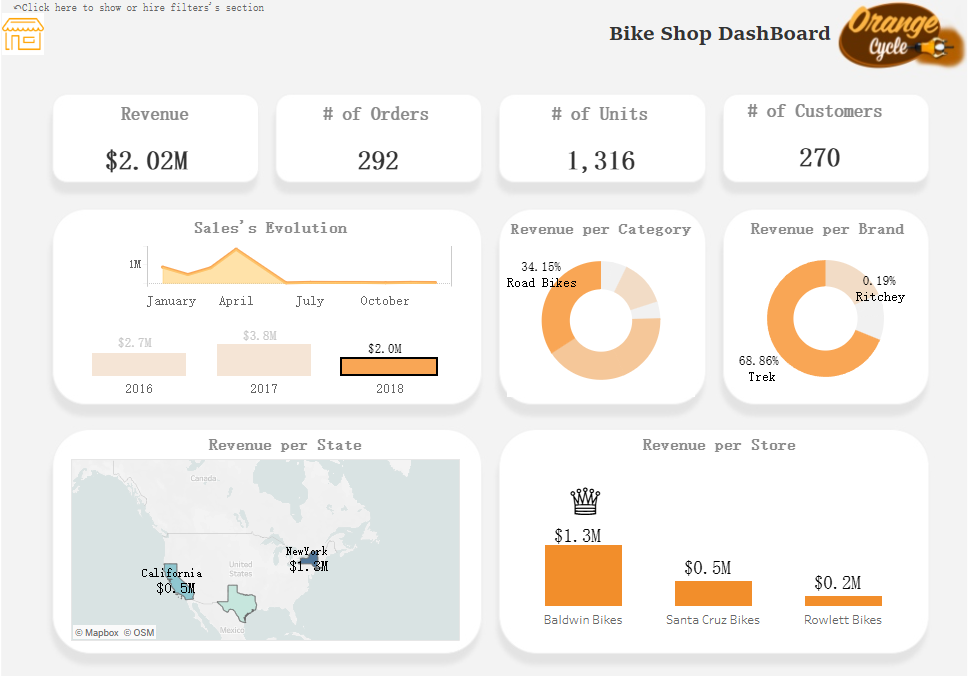

Layout of this report page (visuals, bound fields, positions):
{"tool":"tableau","page":{"name":"Dashboard 1","canvas":[1000,700],"ordinal":0},"visuals":[{"type":"image","param":"Image/canvas-gris.png","box":[8,8,984,684]},{"type":"text","box":[29,13,264,11]},{"type":"dashboard-object","box":[18,23,42,46]},{"type":"text","box":[600,25,247,42]},{"type":"filter","title":"# Customers","param":"[federated.1cahsle01mf6ul16q88dd1yeb68a].[none:Calculation_579838487095468032:ok","box":[65,29,134,37]},{"type":"filter","title":"Revenue per Category","param":"[federated.1cahsle01mf6ul16q88dd1yeb68a].[none:category_name:nk]","box":[199,29,204,37]},{"type":"filter","title":"Sale Per State","param":"[federated.1cahsle01mf6ul16q88dd1yeb68a].[none:Calculation_579838487110369286:nk","box":[403,29,168,37]},{"type":"worksheet","title":"Revenue","mark":"Automatic","box":[99,112,155,80]},{"type":"worksheet","title":"# Orders","mark":"Automatic","box":[327,112,149,80]},{"type":"worksheet","title":"# Product","mark":"Automatic","box":[547,112,155,80]},{"type":"worksheet","title":"# Customers","mark":"Automatic","box":[758,113,170,73]},{"type":"text","box":[210,224,167,30]},{"type":"text","box":[748,225,190,30]},{"type":"text","box":[526,226,182,30]},{"type":"worksheet","title":"Revenue per Brands","mark":"Pie","rows":["Calculation_579838487116570645","Calculation_579838487116570645"],"box":[755,252,173,157]},{"type":"worksheet","title":"Sale | Monthly","mark":"Area","rows":["revenue","revenue"],"cols":["order_date"],"box":[88,254,384,1]},{"type":"worksheet","title":"Sale | Yearly","mark":"Bar","rows":["revenue"],"cols":["Calculation_579838487095468032"],"box":[88,255,384,156]},{"type":"worksheet","title":"Revenue per Category","mark":"Pie","rows":["Calculation_579838487116570645","Calculation_579838487116570645"],"box":[523,256,188,153]},{"type":"text","box":[209,442,185,28]},{"type":"text","box":[659,442,180,28]},{"type":"worksheet","title":"Sale Per State","mark":"Automatic","box":[87,471,389,182]},{"type":"worksheet","title":"Sheet 10","mark":"Automatic","rows":["revenue"],"cols":["store_name"],"box":[534,490,390,168]}]}

Visuals, with their boxes in screenshot pixels (x1, y1, x2, y2), scaled from the page's 1000x700 canvas onto the 970x678 screenshot:
image: [8, 8, 962, 670]
text: [28, 13, 284, 23]
dashboard-object: [17, 22, 58, 67]
text: [582, 24, 822, 65]
"# Customers" filter: [63, 28, 193, 64]
"Revenue per Category" filter: [193, 28, 391, 64]
"Sale Per State" filter: [391, 28, 554, 64]
"Revenue" worksheet: [96, 108, 246, 186]
"# Orders" worksheet: [317, 108, 462, 186]
"# Product" worksheet: [531, 108, 681, 186]
"# Customers" worksheet: [735, 109, 900, 180]
text: [204, 217, 366, 246]
text: [726, 218, 910, 247]
text: [510, 219, 687, 248]
"Revenue per Brands" worksheet (Pie marks): [732, 244, 900, 396]
"Sale | Monthly" worksheet (Area marks): [85, 246, 458, 247]
"Sale | Yearly" worksheet (Bar marks): [85, 247, 458, 398]
"Revenue per Category" worksheet (Pie marks): [507, 248, 690, 396]
text: [203, 428, 382, 455]
text: [639, 428, 814, 455]
"Sale Per State" worksheet: [84, 456, 462, 632]
"Sheet 10" worksheet: [518, 475, 896, 637]
